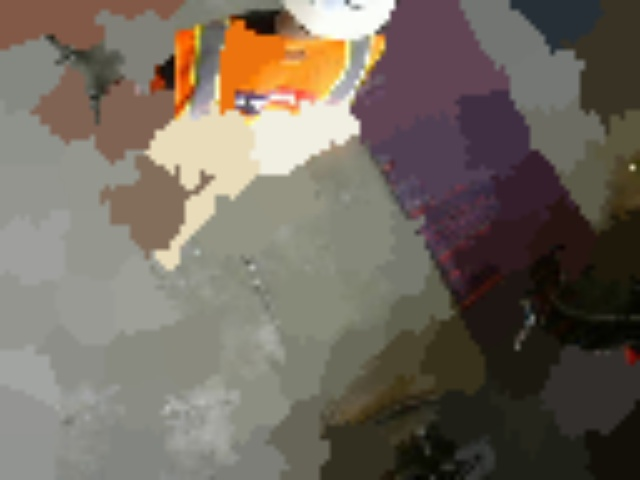three: (331, 0, 396, 14)
